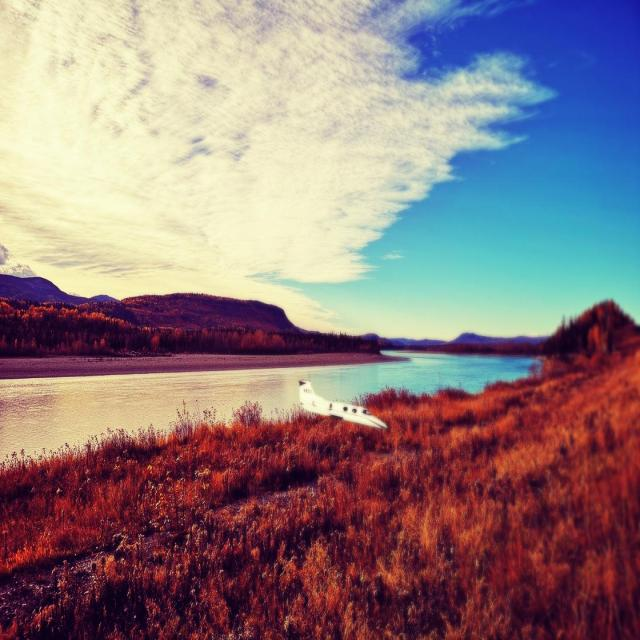airplane: (298, 379, 388, 430)
